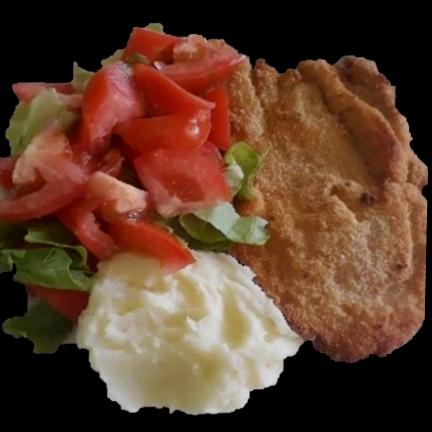meat: (229, 56, 428, 362)
potato: (77, 252, 302, 414)
salad: (0, 225, 94, 297), (159, 204, 269, 251), (3, 292, 74, 353), (6, 94, 75, 155), (225, 142, 262, 198)
tomato: (0, 28, 244, 269), (31, 285, 88, 321)
